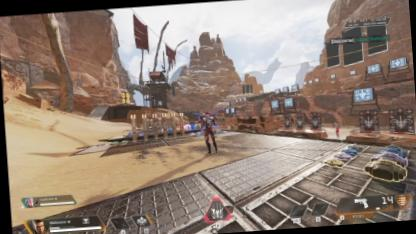Target: (198, 110, 218, 154)
